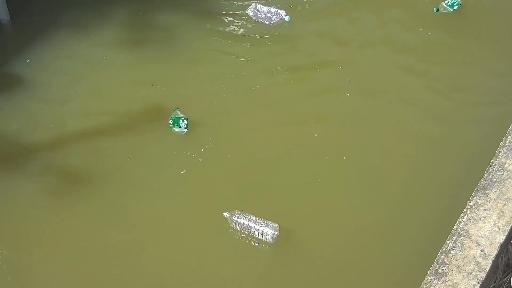plastic: (212, 201, 277, 244), (153, 98, 200, 153), (240, 0, 300, 27), (424, 0, 470, 16)
